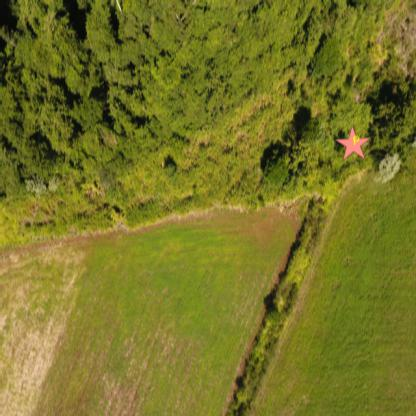P: (353, 135, 361, 146)
star: (335, 124, 372, 163)
